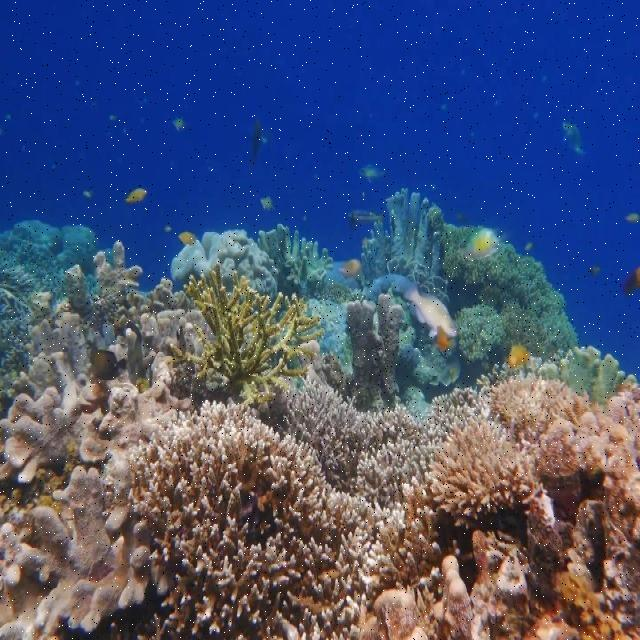fish: (404, 283, 458, 340), (89, 335, 128, 379), (467, 228, 504, 259), (561, 122, 582, 155), (507, 345, 533, 370), (359, 164, 387, 185), (338, 258, 363, 276), (348, 210, 383, 221), (126, 188, 149, 203), (176, 325, 187, 352), (179, 231, 198, 244)
reefs: (110, 356, 639, 639), (0, 240, 214, 639), (357, 470, 639, 639), (288, 187, 476, 418), (165, 264, 326, 410), (0, 220, 114, 418), (442, 223, 580, 373), (170, 224, 333, 301), (538, 346, 638, 411)
